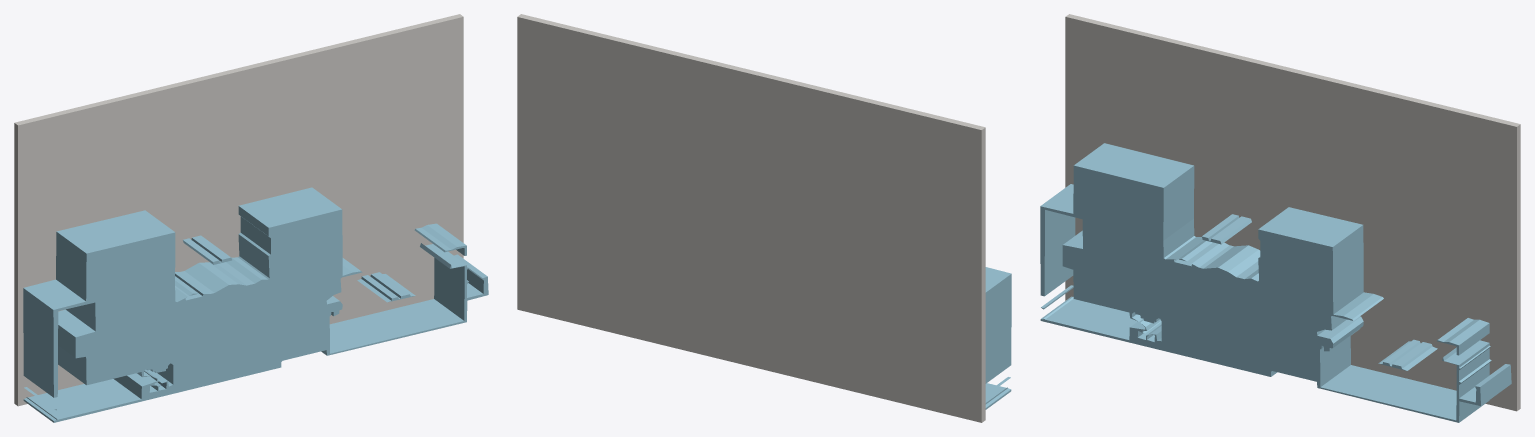
The picture shows the model from 3 angles, left to right: view 1: azimuth 30°, elevation 25°; view 2: azimuth 150°, elevation 25°; view 3: azimuth 330°, elevation 25°; orthographic projection. The views are drawn at different scales.
Parts seen in each view (by area): view 1: world; view 2: world; view 3: world.
Part boxes in pixels (x1,y1,x2,y2): world: (14, 14, 488, 422); world: (517, 14, 1011, 422); world: (1040, 14, 1520, 422).
Size of the model in its own units: 10.23 by 6.16 by 1.35.
